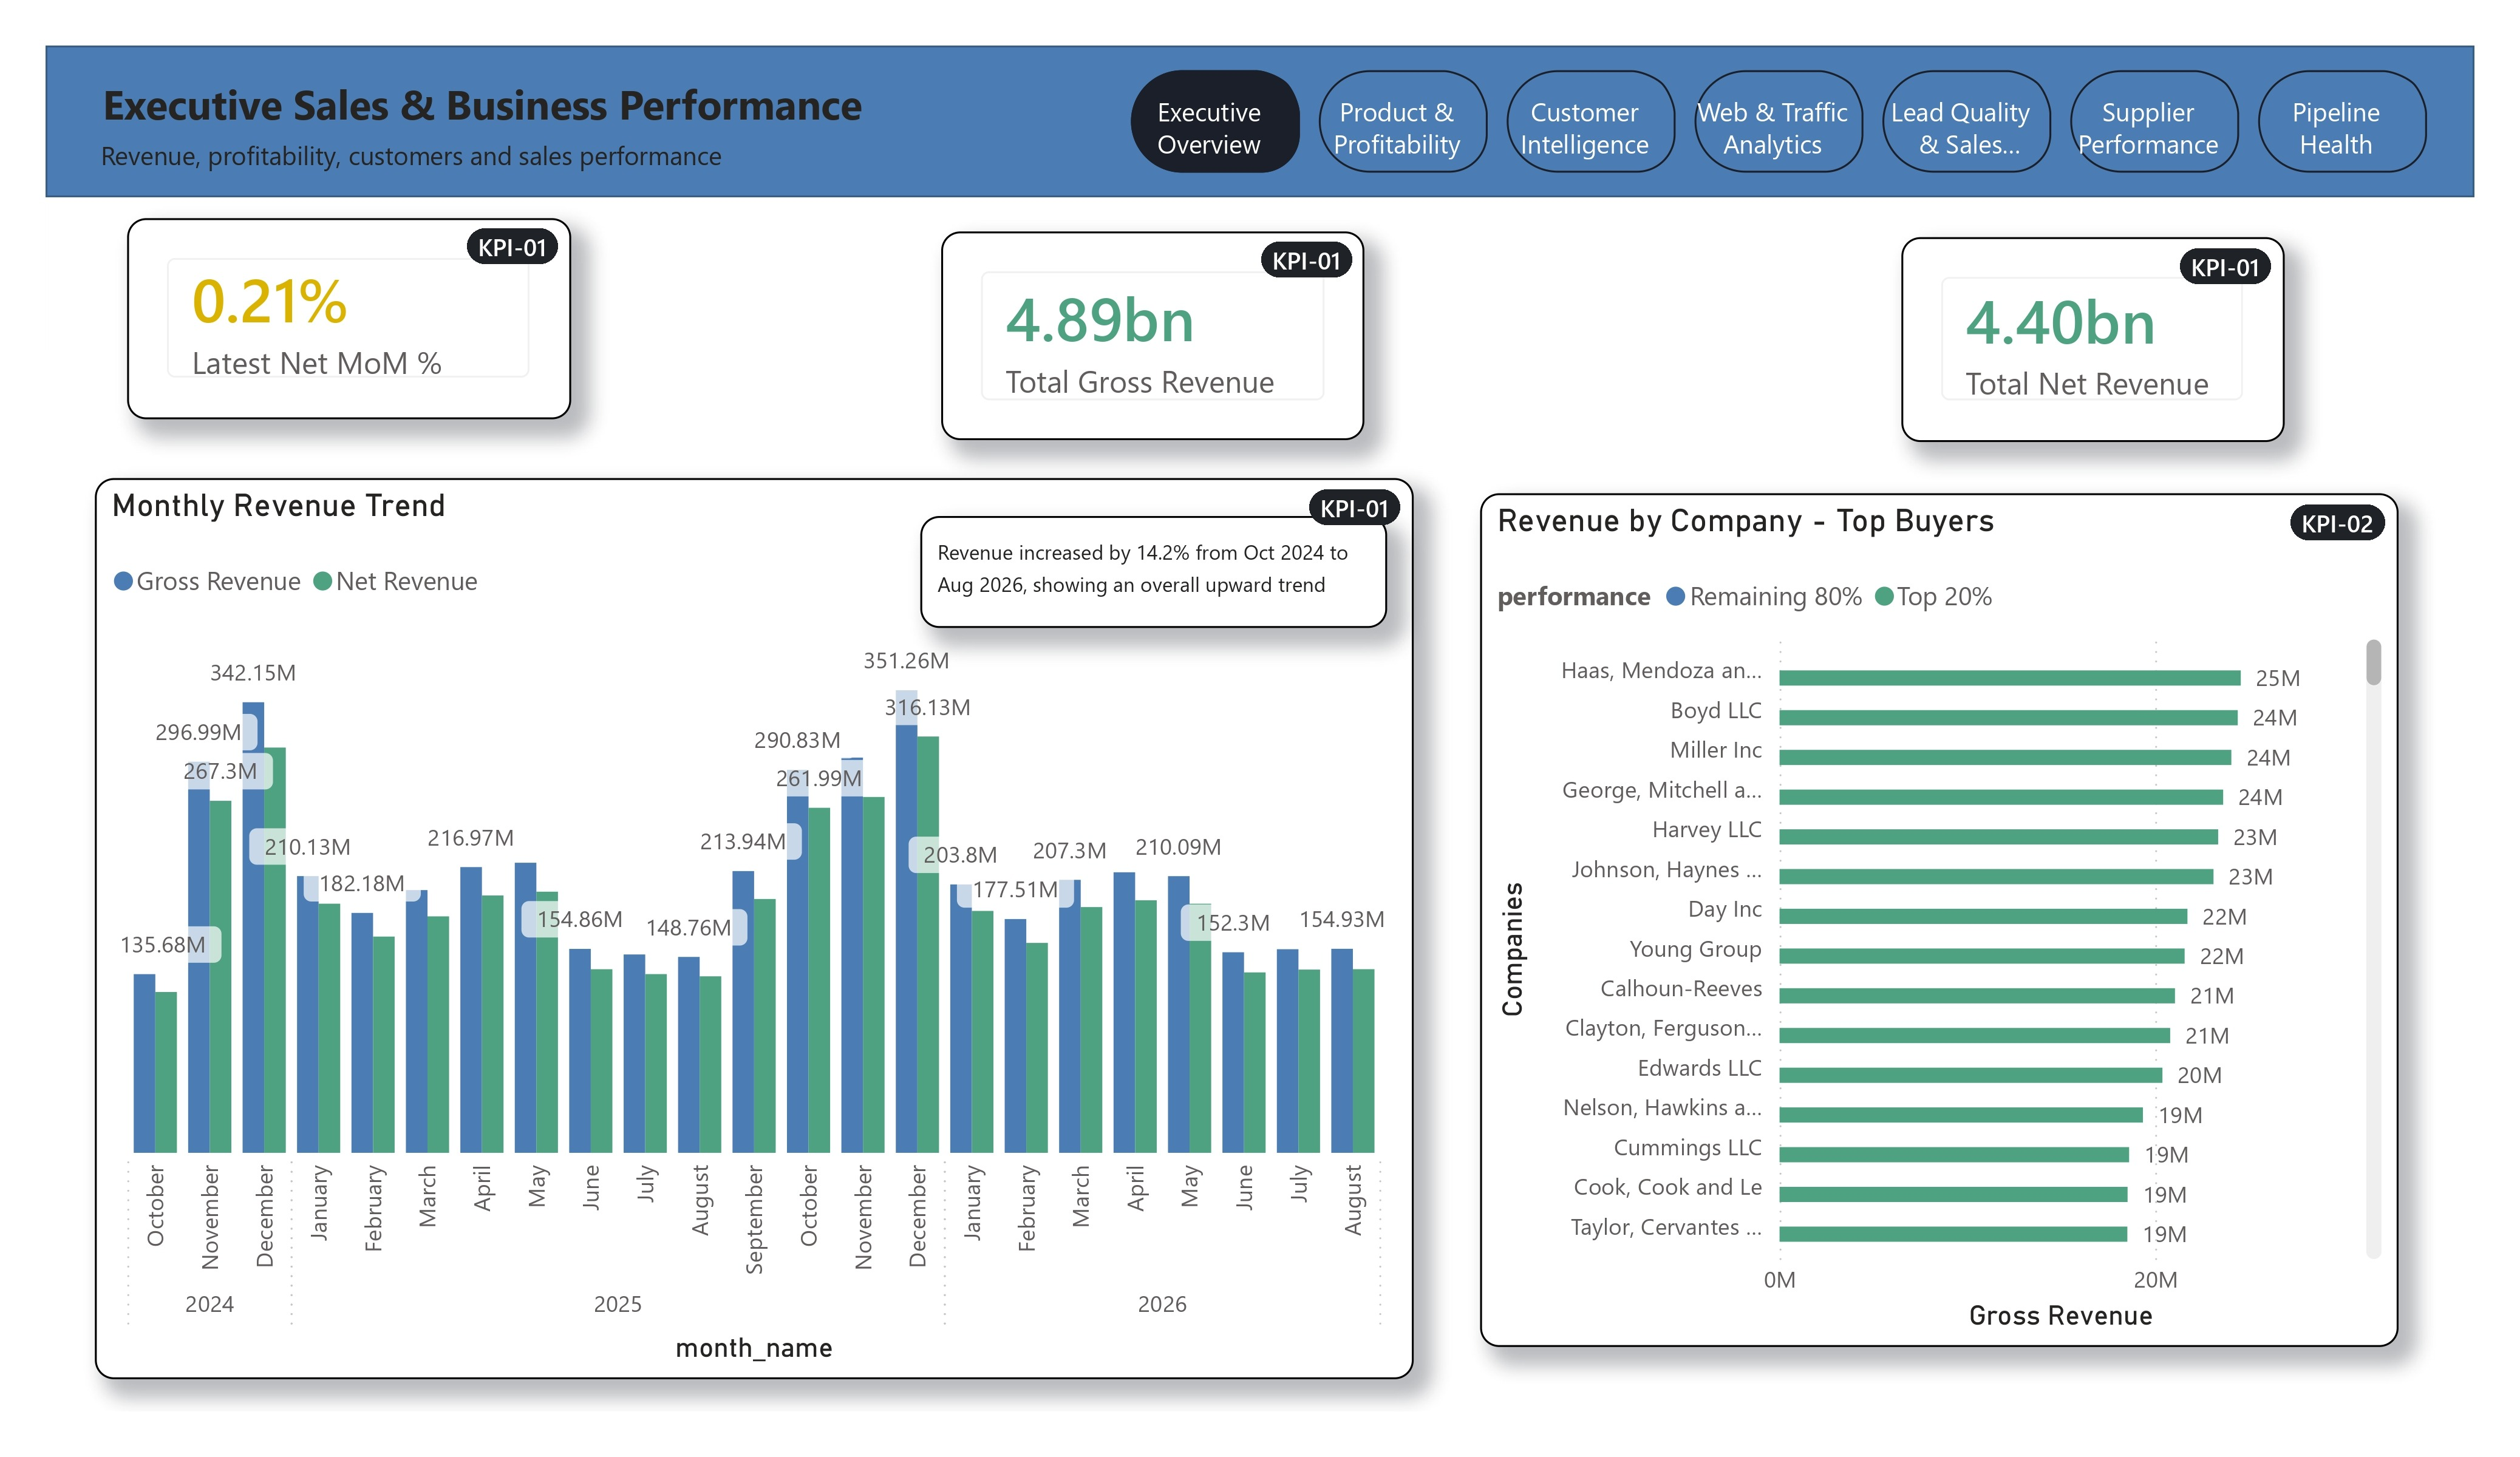

The page's visual inventory and layout, read from the dashboard file:
{"tool":"powerbi","page":{"name":"Executive Overview","canvas":[1280,720],"ordinal":0},"visuals":[{"type":"shape","box":[0,0,1280,80],"z":0},{"type":"cardVisual","fields":{"Data":["Measure.Total Revenue"]},"box":[472.1,97.7,223.3,110.5],"z":1000},{"type":"cardVisual","fields":{"Data":["Measure.Total Revenue"]},"box":[977.9,101.2,201.7,107.4],"z":2000},{"type":"lineClusteredColumnComboChart","title":"Monthly Revenue Trend","fields":{"Category":["marts vw_monthly_revenue_trend.year","marts vw_monthly_revenue_trend.month_name"],"Y":["Sum(marts vw_monthly_revenue_trend.gross_revenue)","Sum(marts vw_monthly_revenue_trend.net_revenue)"]},"box":[25.6,228.2,694.9,474.4],"z":3000},{"type":"cardVisual","fields":{"Data":["Measure.Latest Net MoM %"]},"box":[43,90.7,233.7,105.8],"z":4000},{"type":"clusteredBarChart","title":"Revenue by Company - Top Buyers","fields":{"Category":["marts vw_revenue_by_company.company_name"],"Series":["marts vw_revenue_by_company.performance"],"Y":["Sum(marts vw_revenue_by_company.gross_revenue)"]},"box":[755.8,236,483.7,450],"z":5000},{"type":"textbox","box":[24.9,10.7,447.7,56.8],"z":6000},{"type":"textbox","box":[24.4,44.2,679.1,36],"z":7000},{"type":"pageNavigator","box":[572.1,12.8,688.4,54.7],"z":8000},{"type":"textbox","box":[460.7,247.5,246.3,59.2],"z":15000}]}

Visuals, with their boxes on the page's 1280x720 design canvas (x1, y1, x2, y2). These are canvas units, not pixel positions in the 2520x1457 screenshot, which may show the page scaled, cropped or inside an application window:
shape: x1=0, y1=0, x2=1280, y2=80
cardVisual - Measure.Total Revenue: x1=472, y1=98, x2=695, y2=208
cardVisual - Measure.Total Revenue: x1=978, y1=101, x2=1180, y2=209
"Monthly Revenue Trend" lineClusteredColumnComboChart: x1=26, y1=228, x2=720, y2=703
cardVisual - Measure.Latest Net MoM %: x1=43, y1=91, x2=277, y2=196
"Revenue by Company - Top Buyers" clusteredBarChart: x1=756, y1=236, x2=1240, y2=686
textbox: x1=25, y1=11, x2=473, y2=68
textbox: x1=24, y1=44, x2=704, y2=80
pageNavigator: x1=572, y1=13, x2=1260, y2=68
textbox: x1=461, y1=248, x2=707, y2=307
